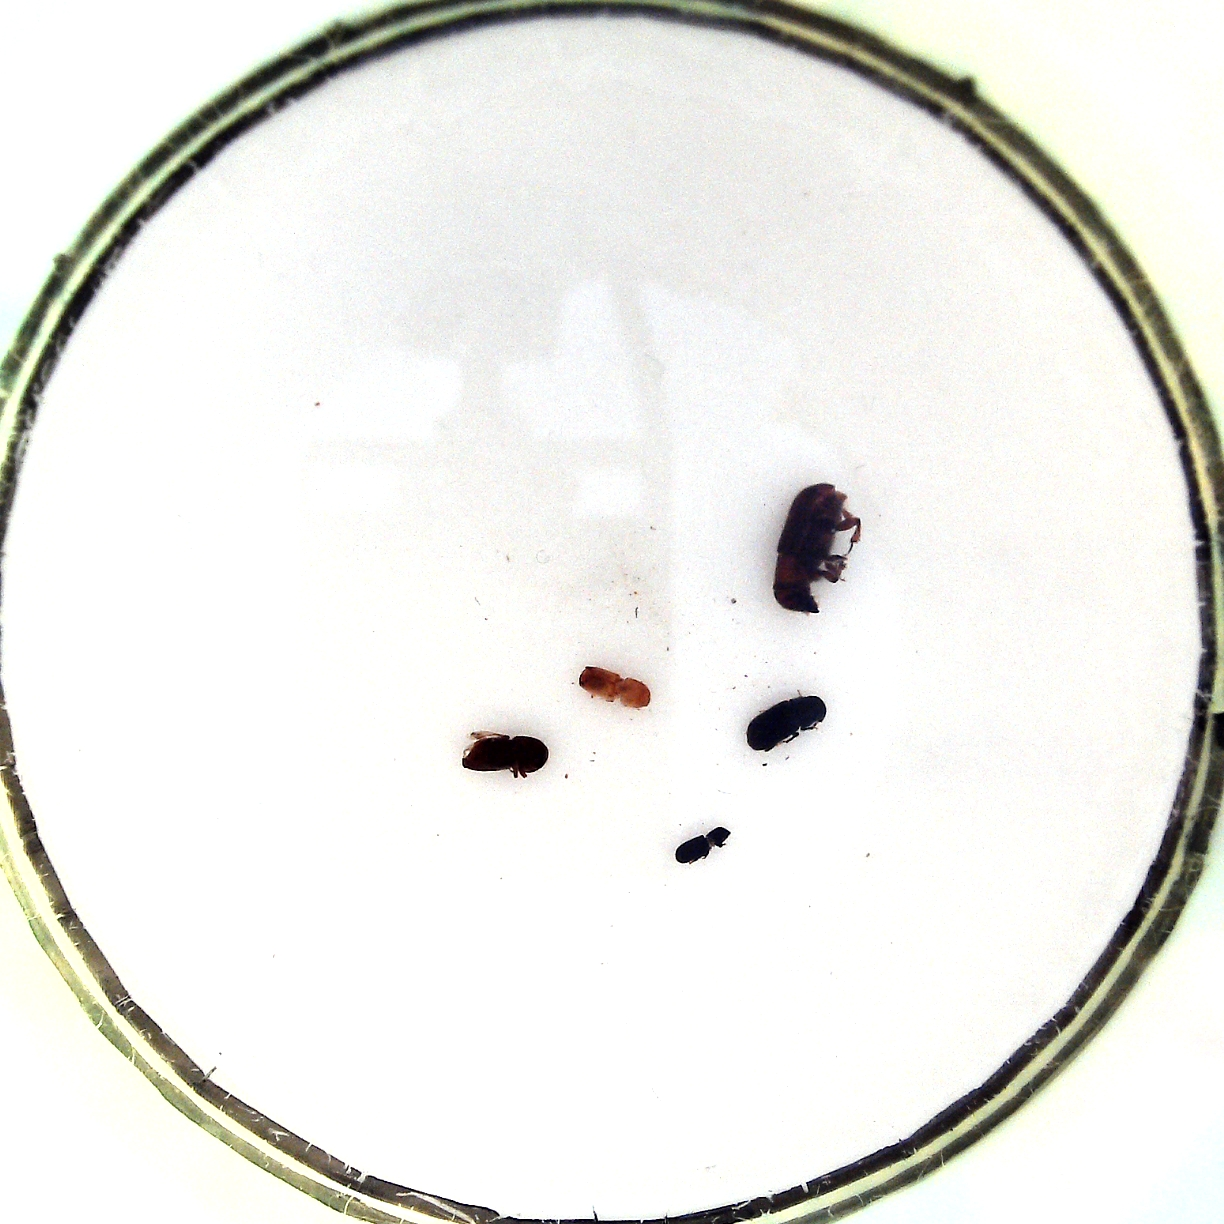Leconte: (769, 479, 863, 615)
Linnaeus: (457, 725, 551, 781)
acuminatus: (572, 660, 656, 710)
armandi: (743, 692, 827, 755)
coleoptera: (669, 822, 735, 868)
